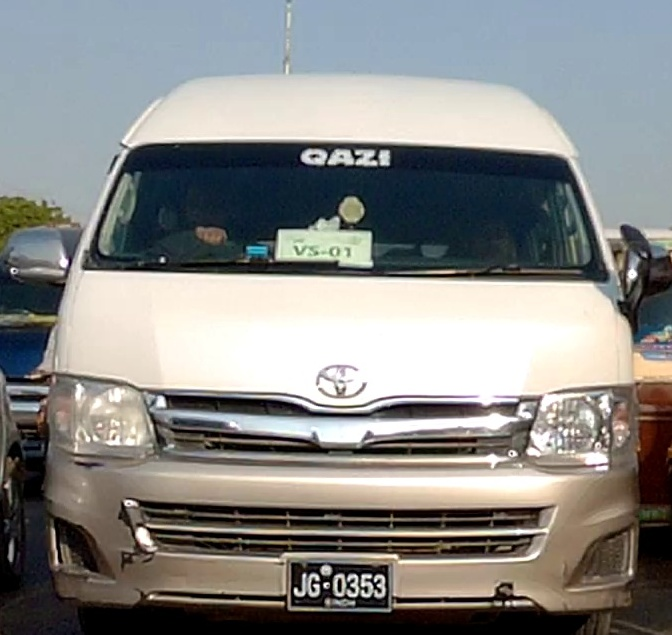van: (3, 70, 649, 635)
